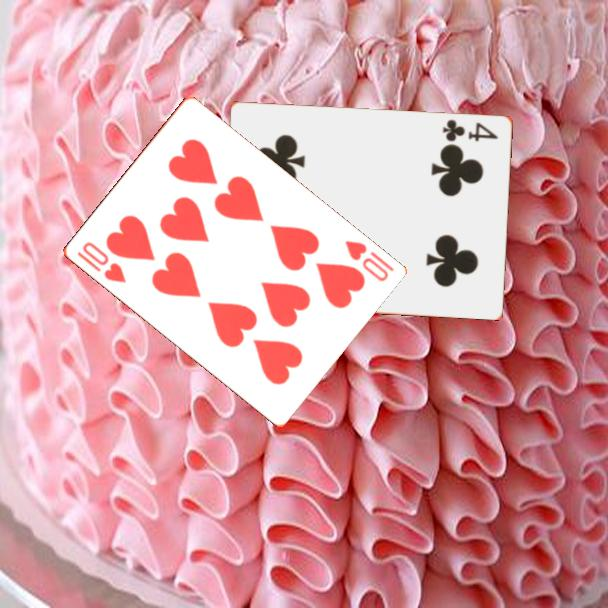c04: (439, 116, 501, 144)
h10: (73, 238, 129, 286), (341, 237, 396, 284)
